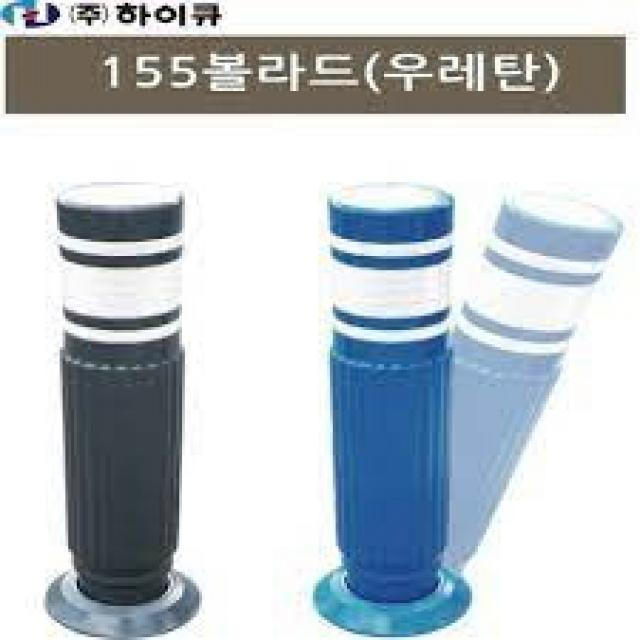bollard: (308, 166, 486, 633), (30, 169, 206, 634)
